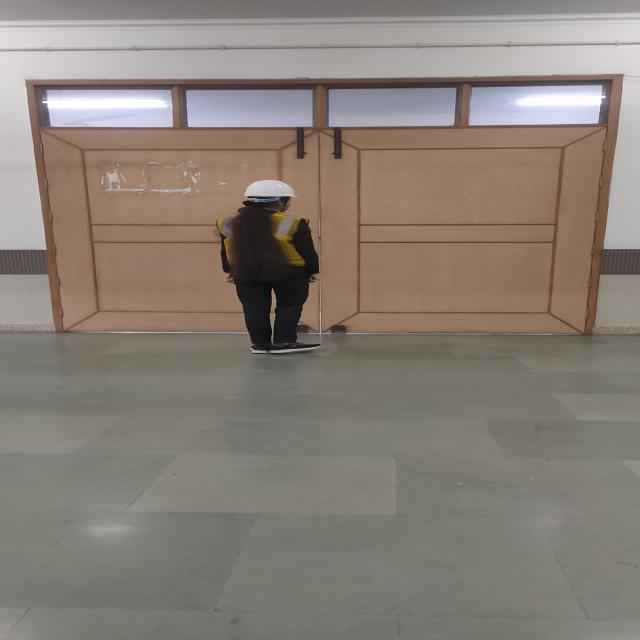safe: (216, 180, 324, 352)
